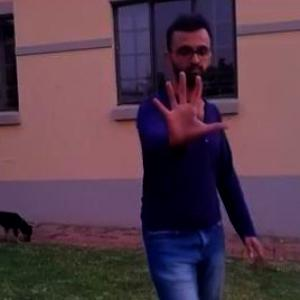follow_hand: (148, 66, 229, 148)
